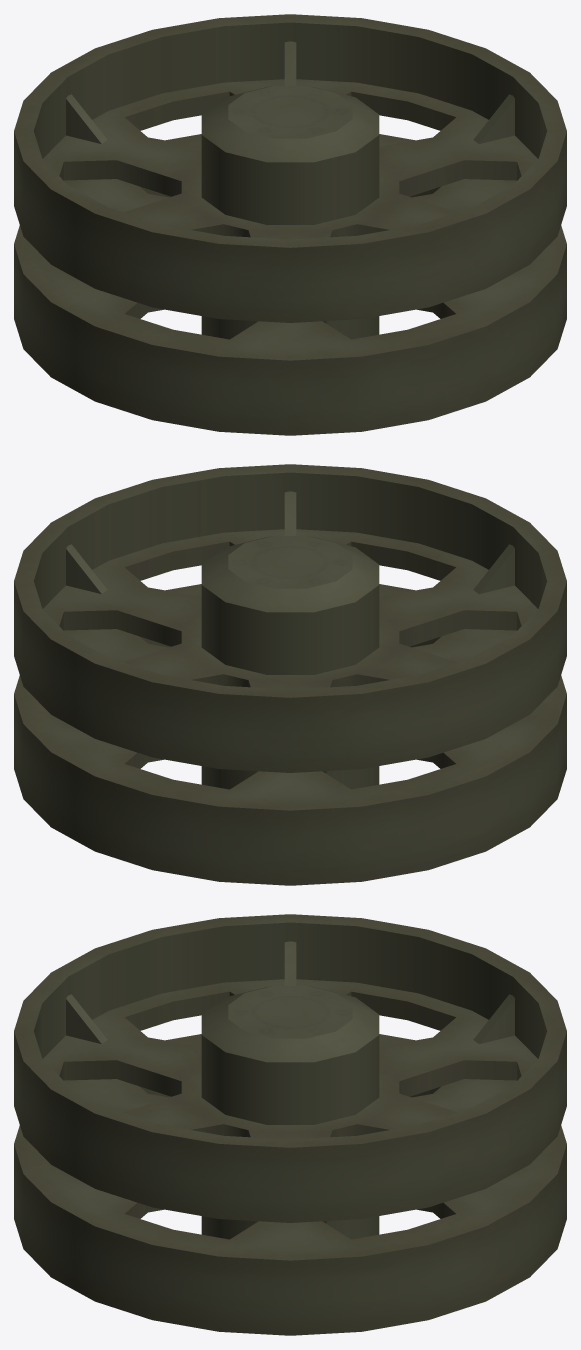
Rendered from T-35_IdlerWheel.fbx.
3 views of the same model, one above another, from view 1: azimuth 30°, elevation 25°; view 2: azimuth 150°, elevation 25°; view 3: azimuth 270°, elevation 25° (orthographic).
Parts seen in each view (by area): view 1: T-35_IdlerWheel; view 2: T-35_IdlerWheel; view 3: T-35_IdlerWheel.
Boxes of the visible parts, x1,y1,x2,y2 form: T-35_IdlerWheel: [14, 14, 566, 435]; T-35_IdlerWheel: [14, 464, 566, 885]; T-35_IdlerWheel: [14, 914, 566, 1335].
Bounding box in the file's own units: 0.8 × 0.365 × 0.8.
